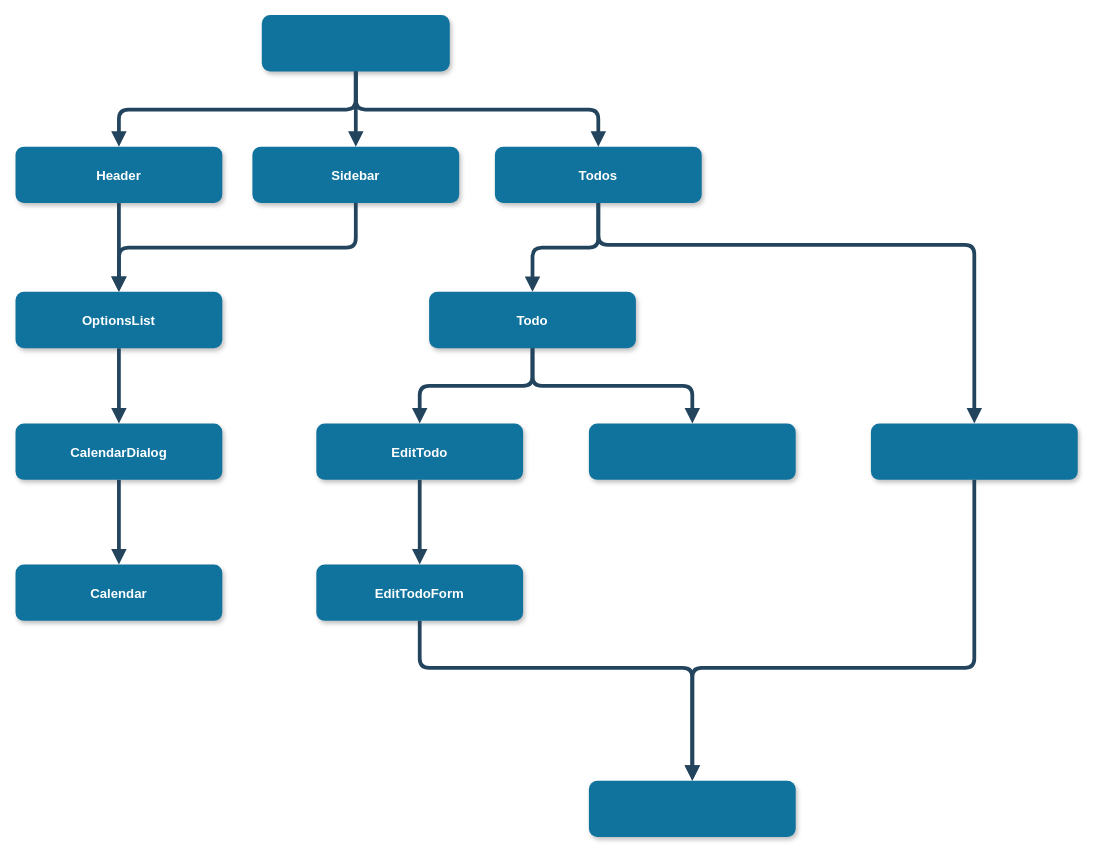
This 1093x853 diagram has some shape labels left out. Here are the shapes that lost their labels. From the top down, the centre of each, then its label:
the point at 356,44: App
the point at 693,452: DeleteDialog
the point at 975,452: AddTodo
the point at 693,809: DatePicker
